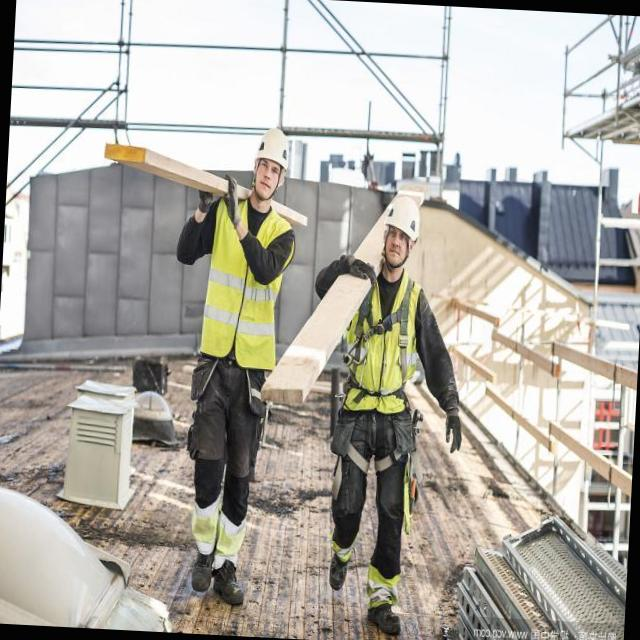boots: (357, 589, 414, 640), (208, 552, 252, 616), (320, 544, 356, 602), (183, 547, 216, 598)
helmet: (375, 191, 426, 252), (246, 122, 298, 178)
vest: (183, 184, 304, 381), (328, 254, 431, 422)
